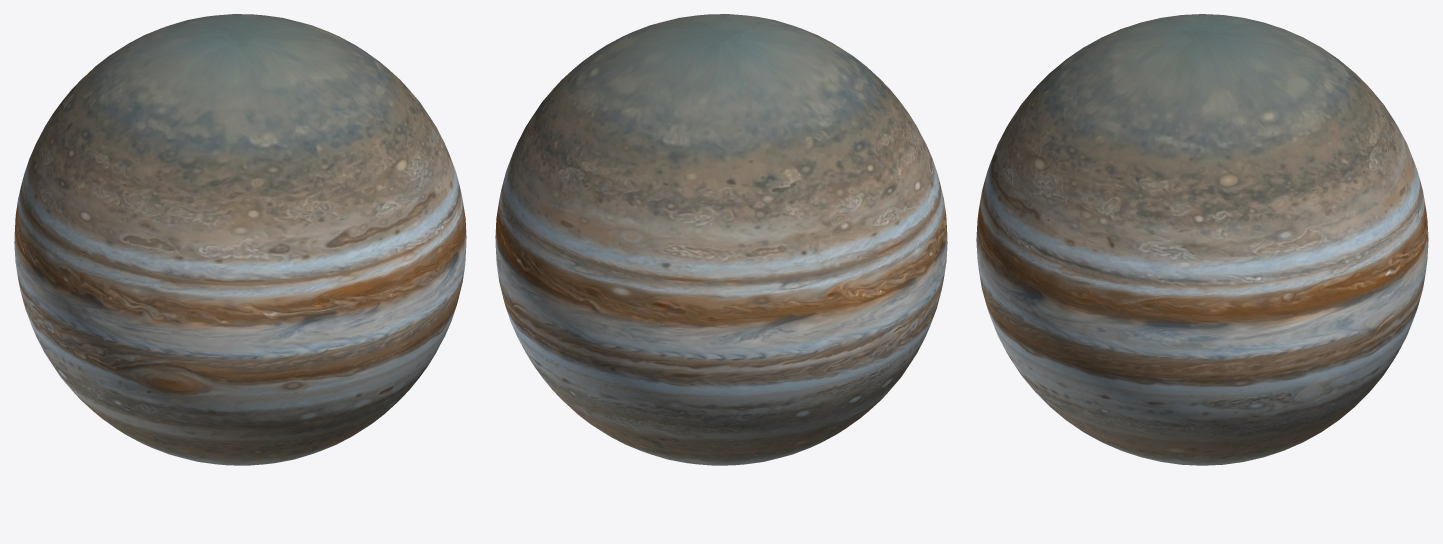
File: Jupiter.glb
3 renders of one model, left to right at view 1: azimuth 30°, elevation 25°; view 2: azimuth 150°, elevation 25°; view 3: azimuth 270°, elevation 25°, orthographic.
Visible parts, largest first — view 1: Jupiter Planet; view 2: Jupiter Planet; view 3: Jupiter Planet.
Boxes of the visible parts, x1,y1,x2,y2 form: Jupiter Planet: (14, 14, 466, 465); Jupiter Planet: (495, 14, 947, 465); Jupiter Planet: (976, 14, 1428, 465).
Bounding box in the file's own units: 2.07 × 2.5 × 2.07.
Materials: 1 (1 with a texture image).
